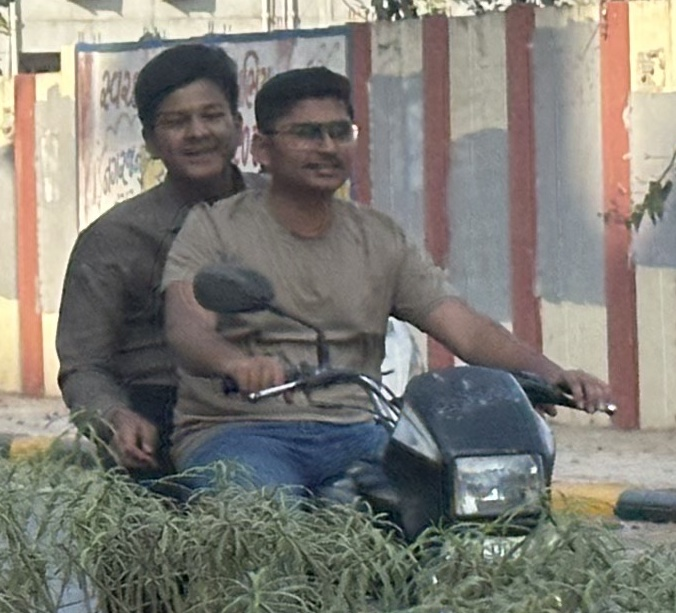BikeWithRider: (38, 34, 631, 613)
NoHelmet: (121, 37, 255, 193), (241, 60, 371, 201)
